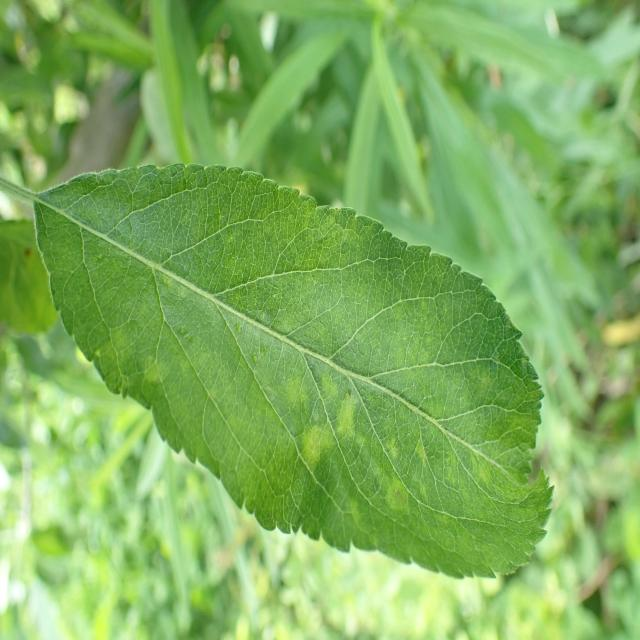scab: (24, 161, 532, 551)
